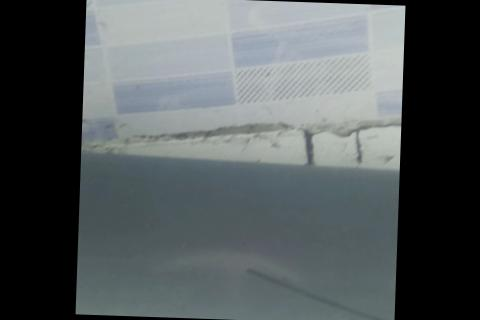keretakan: (240, 266, 396, 320)
